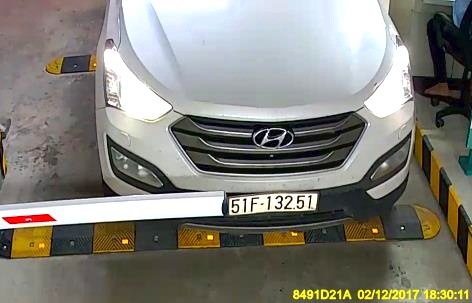plate: (227, 188, 319, 215)
